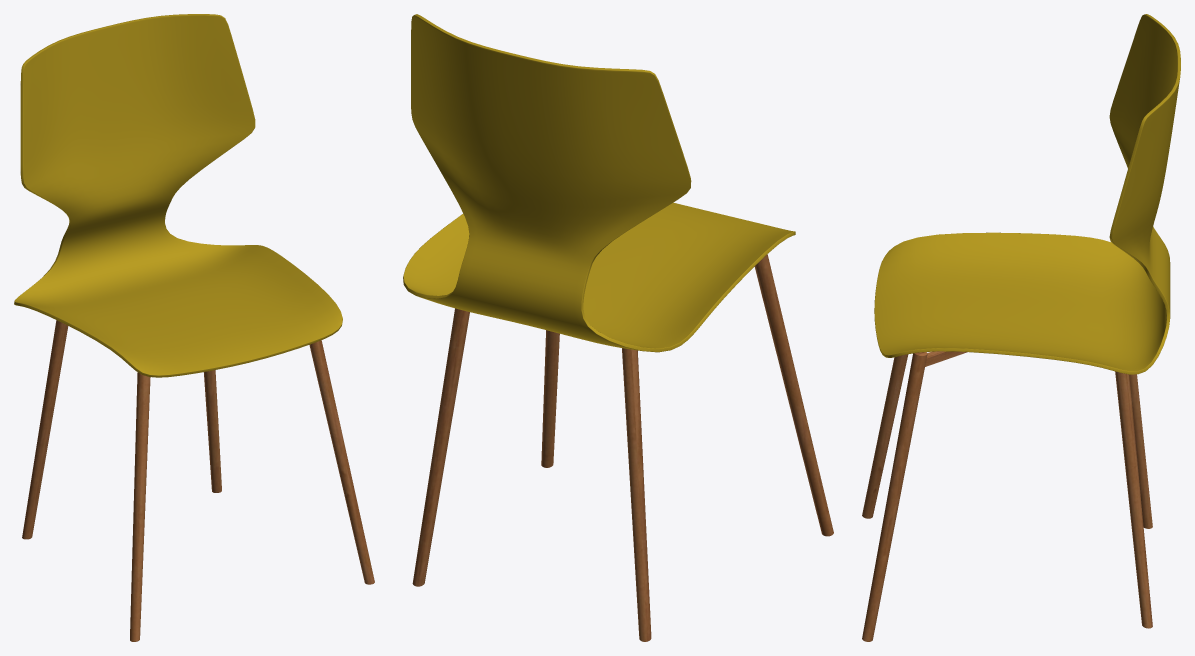
File: chair_63_03.001.fbx
The picture shows the model from 3 angles, left to right: view 1: azimuth 30°, elevation 25°; view 2: azimuth 150°, elevation 25°; view 3: azimuth 270°, elevation 25°; orthographic projection. The views are drawn at different scales.
Parts seen in each view (by area): view 1: chair_63_03.001; view 2: chair_63_03.001; view 3: chair_63_03.001.
Boxes of the visible parts, bbox=[...] form: chair_63_03.001: bbox=[14, 14, 374, 641]; chair_63_03.001: bbox=[403, 14, 833, 641]; chair_63_03.001: bbox=[862, 14, 1180, 641].
Bounding box in the file's own units: 45.27 × 85.1 × 47.74.
1 material, 1 textured.
